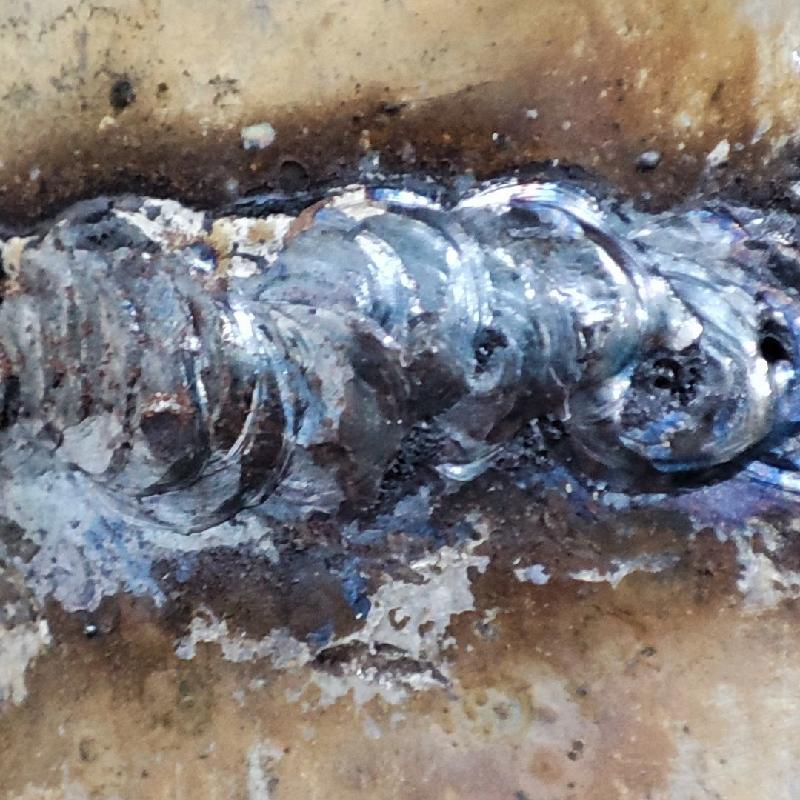Surface_pores: (633, 340, 713, 417), (751, 308, 799, 382)
good: (1, 190, 798, 511)
